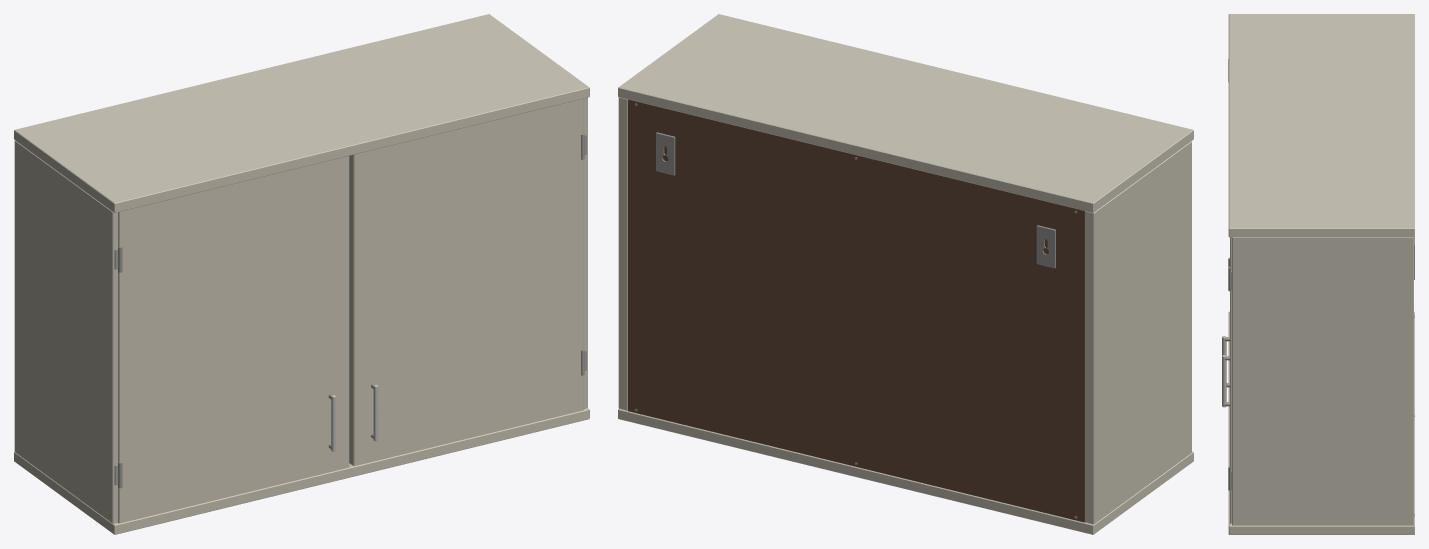
The model's file is kitchen-wall-cabinet-655c9b4972c0.glb.
3 renders of one model, left to right at view 1: azimuth 30°, elevation 25°; view 2: azimuth 150°, elevation 25°; view 3: azimuth 270°, elevation 25°, orthographic. The views are drawn at different scales.
Visible parts, largest first — view 1: enamel, brushed; view 2: wood, enamel, brushed; view 3: enamel, brushed, chrome.
Part boxes in pixels (bbox=[...]): enamel: bbox=[14, 14, 589, 534]; brushed: bbox=[114, 133, 586, 488]; wood: bbox=[628, 99, 1084, 522]; enamel: bbox=[618, 14, 1193, 534]; brushed: bbox=[634, 103, 1077, 518]; enamel: bbox=[1228, 14, 1414, 534]; brushed: bbox=[1224, 59, 1414, 516]; chrome: bbox=[1222, 336, 1226, 407].
Bounding box in the file's own units: 0.9 × 0.6 × 0.342.
